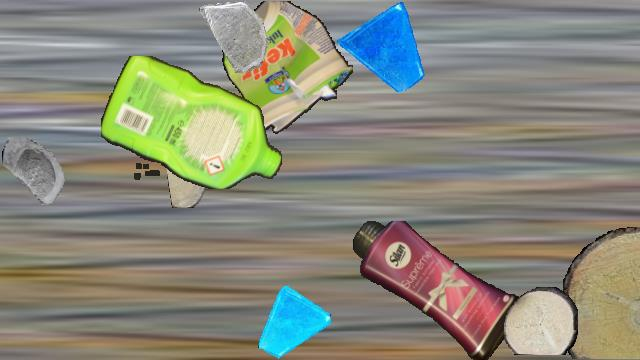glass: (337, 1, 427, 91), (1, 137, 77, 213), (256, 285, 330, 359), (199, 1, 271, 73)
plastic: (101, 56, 283, 188), (352, 221, 524, 359), (221, 1, 353, 139), (638, 206, 640, 342)
wood: (559, 227, 640, 359), (504, 287, 578, 355), (167, 134, 205, 208)
